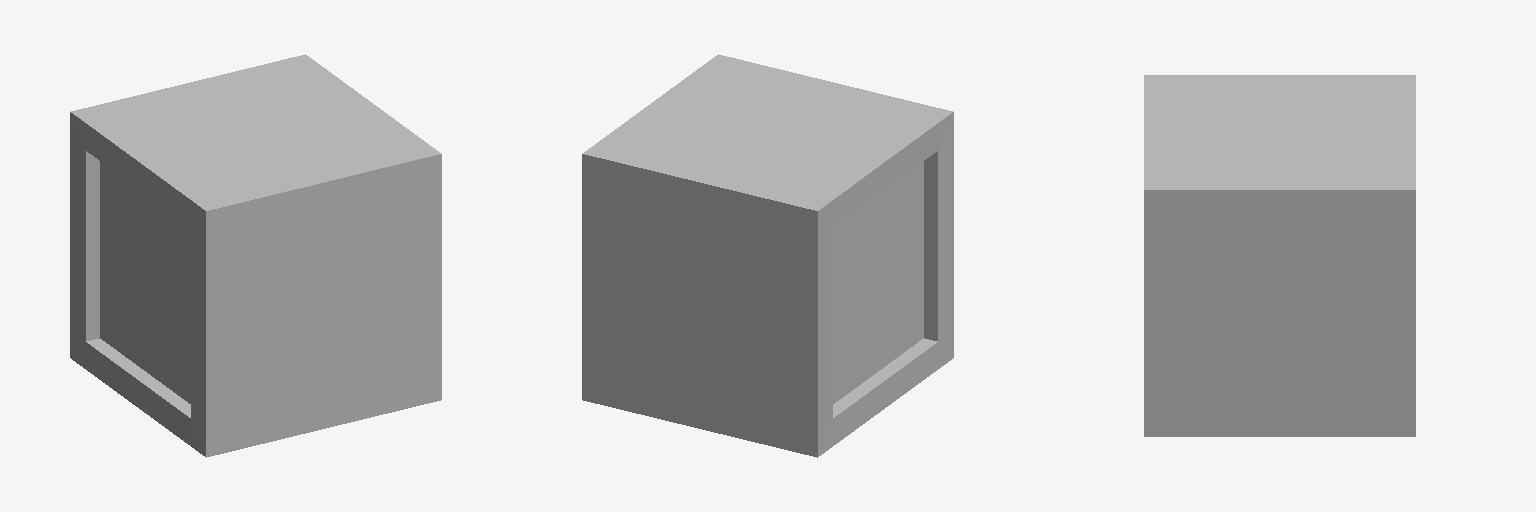
The model's file is crate.obj.
3 renders of one model, left to right at view 1: azimuth 30°, elevation 25°; view 2: azimuth 150°, elevation 25°; view 3: azimuth 270°, elevation 25°, orthographic.
Size of the model in its own units: 2 by 2 by 2.